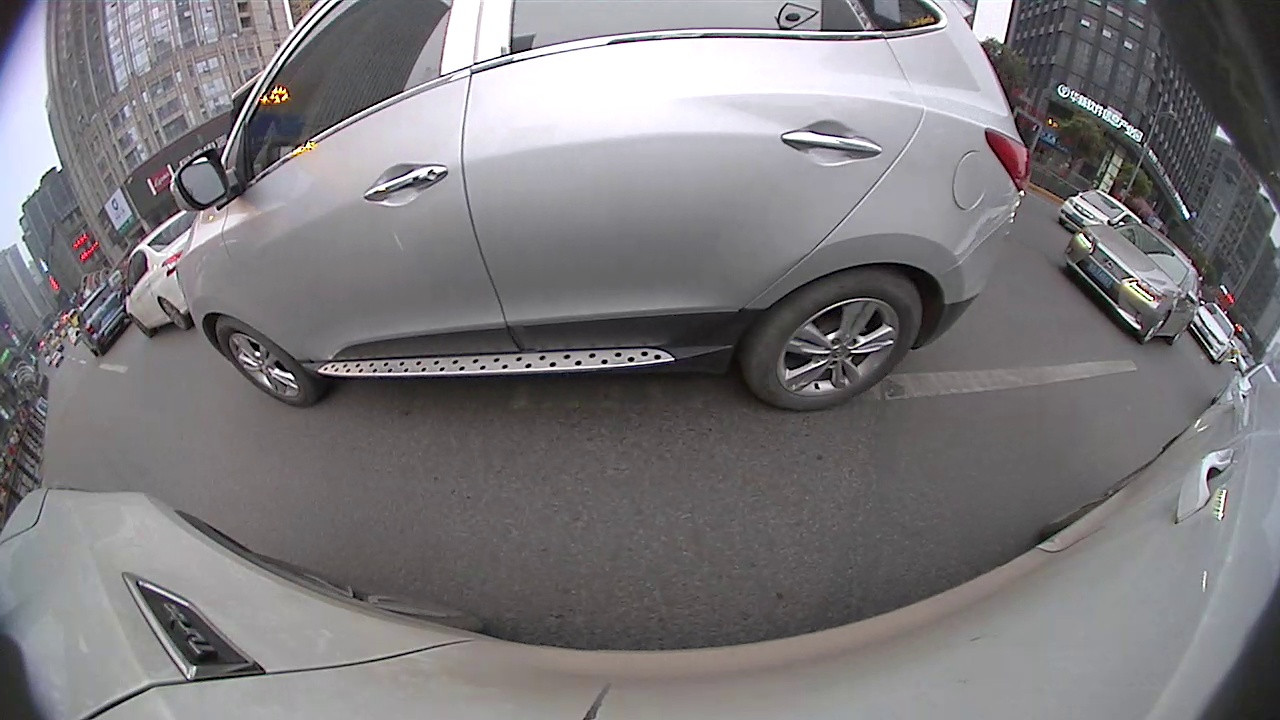car: (177, 4, 1039, 409), (1066, 224, 1206, 348), (119, 206, 207, 346), (1062, 183, 1144, 244), (70, 283, 128, 358), (1187, 300, 1239, 366)
front: (211, 314, 320, 410)
rear: (738, 268, 923, 413), (157, 296, 193, 334)
